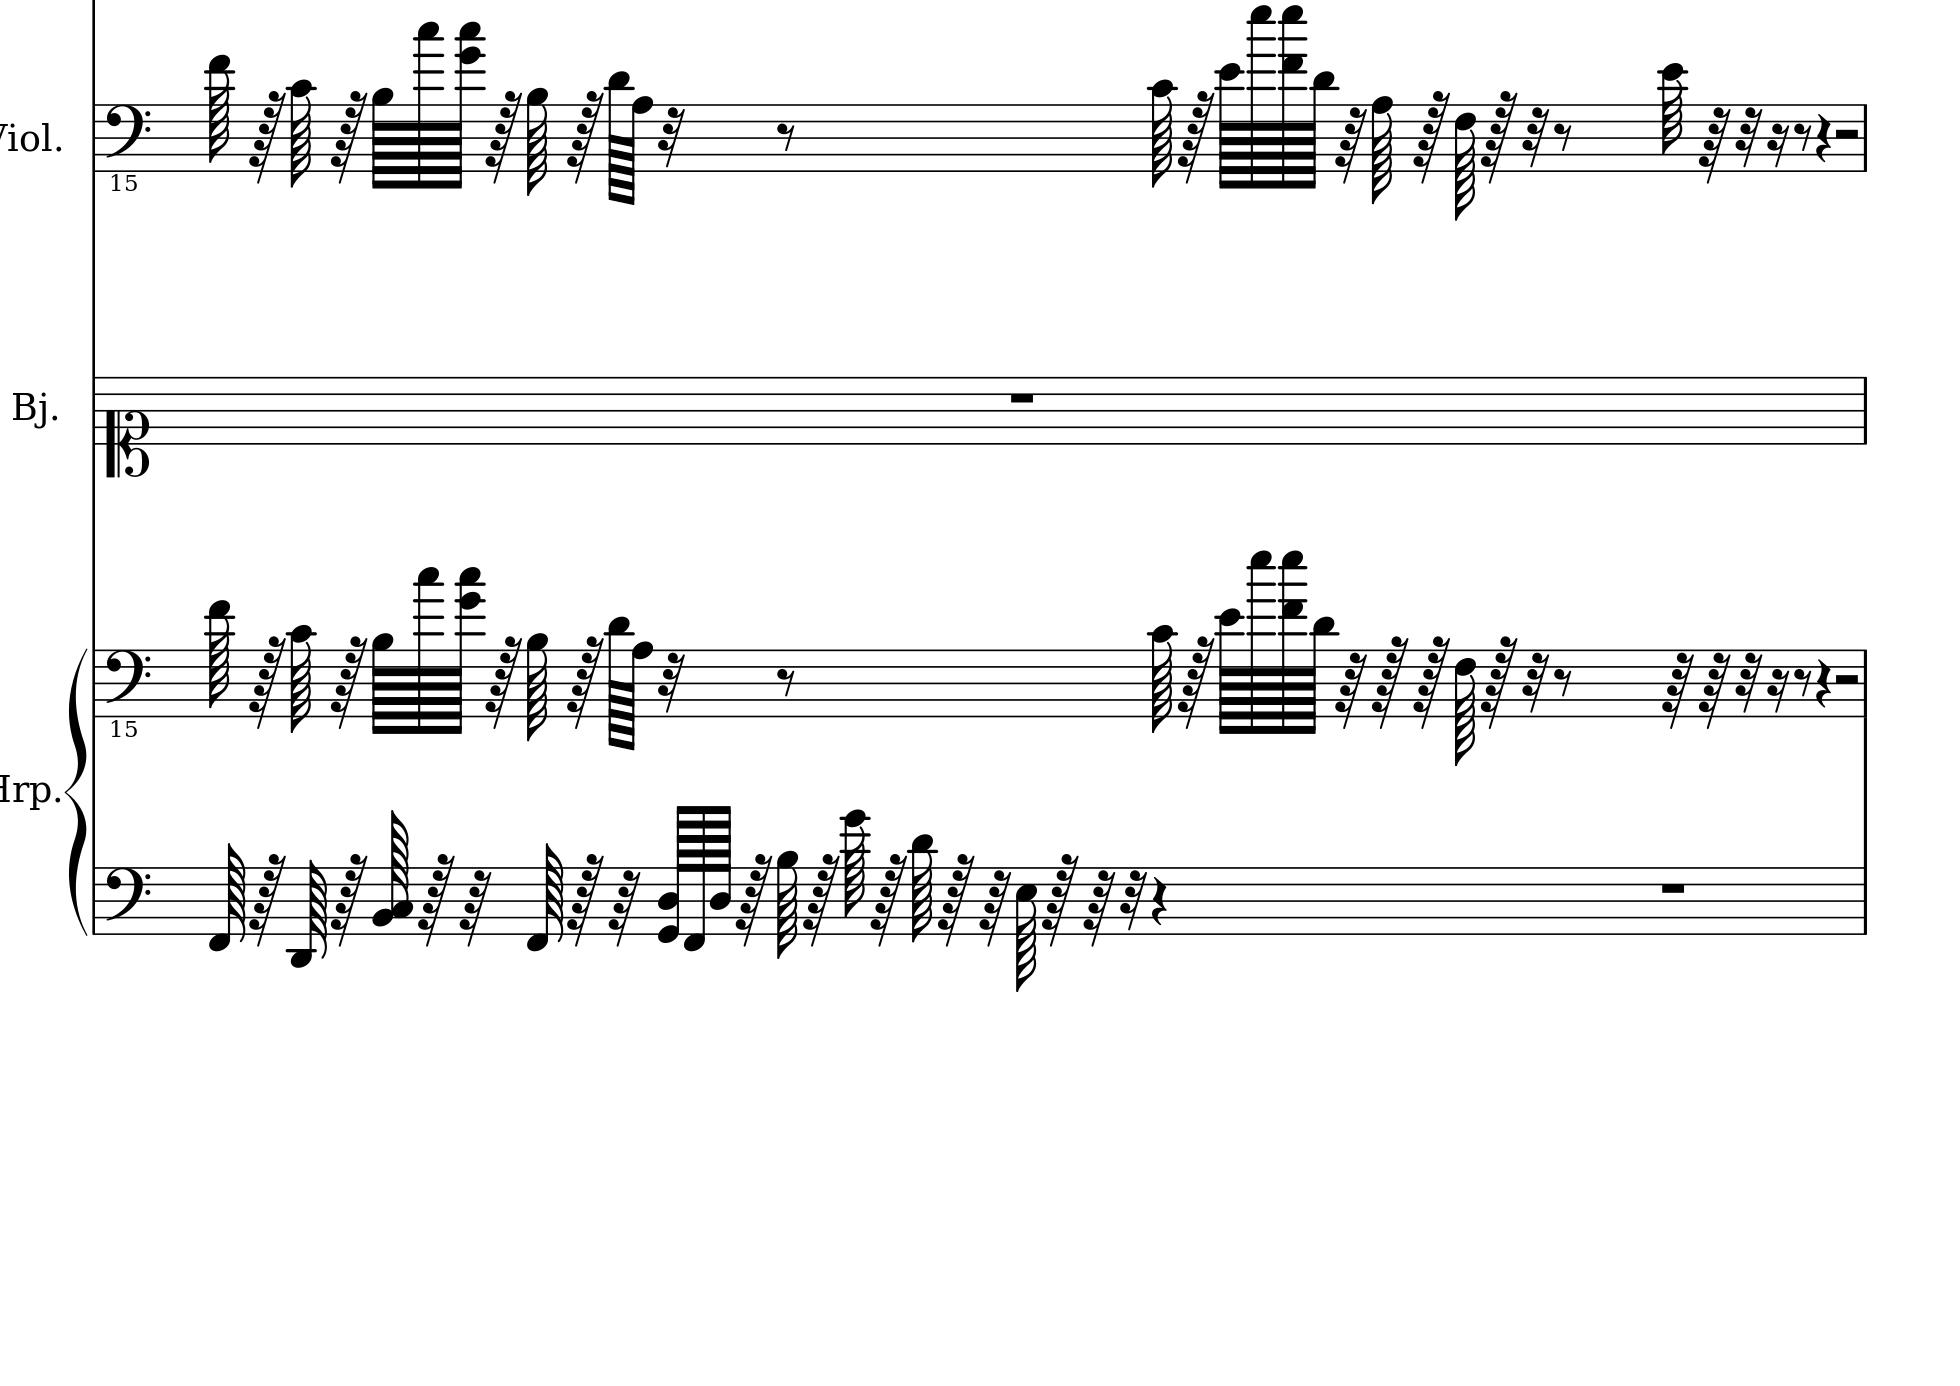128_-1: (523, 841, 565, 952), (207, 841, 247, 952)
128_-3: (286, 858, 331, 967)
128_10: (285, 625, 318, 733), (1147, 79, 1177, 187), (1149, 624, 1176, 736)
128_11: (1308, 615, 1338, 733), (1308, 67, 1336, 190), (604, 70, 630, 201), (604, 616, 630, 747), (286, 79, 316, 187), (909, 831, 937, 943)
128_12: (1215, 607, 1245, 736), (1218, 63, 1245, 190)
128_13: (202, 598, 235, 718), (204, 52, 232, 172)
128_14: (838, 808, 870, 936)
128_17: (412, 565, 442, 736), (412, 21, 442, 190)
128_4: (709, 805, 732, 936)
128_5: (1015, 865, 1038, 991)
128_6: (1452, 100, 1479, 220), (1453, 649, 1476, 768)
128_8: (625, 640, 654, 751), (625, 96, 654, 205), (1371, 93, 1395, 205)
128_9: (525, 85, 549, 195), (775, 850, 799, 957), (370, 85, 394, 190), (370, 631, 394, 733), (525, 633, 547, 739)
64_12: (1659, 61, 1689, 172)
Brace: (63, 645, 88, 934)
DLower_Fclef: (102, 646, 156, 748), (102, 100, 156, 195)
Fclef: (102, 865, 151, 937)
Rests1: (1006, 388, 1038, 406), (1657, 879, 1689, 897)
Rests128: (1411, 88, 1452, 184), (246, 634, 285, 733), (328, 87, 367, 184), (1480, 87, 1519, 184), (1413, 633, 1452, 730), (1479, 633, 1518, 730), (247, 850, 286, 948), (328, 850, 367, 948), (417, 850, 456, 948), (1041, 850, 1080, 948), (247, 88, 286, 184), (565, 88, 604, 184), (328, 633, 367, 729), (1371, 634, 1410, 730), (484, 87, 522, 184), (565, 633, 603, 729), (567, 850, 604, 946), (735, 850, 772, 946), (870, 850, 907, 946), (937, 852, 975, 946), (484, 633, 520, 730), (802, 849, 838, 946), (1177, 633, 1213, 729), (1177, 88, 1213, 183), (684, 804, 706, 952)
Rests16: (1521, 651, 1549, 715), (1767, 120, 1789, 169), (1767, 667, 1789, 714)
Rests2: (1834, 124, 1860, 141), (1834, 670, 1860, 687)
Rests32: (1734, 105, 1764, 169), (657, 105, 685, 171), (1521, 105, 1549, 171), (1735, 649, 1764, 715), (1119, 868, 1147, 933), (657, 652, 685, 715)
Rests4: (1149, 874, 1170, 928), (1815, 111, 1833, 163), (1815, 657, 1831, 708)
Rests64: (457, 868, 492, 949), (607, 868, 642, 948), (1083, 867, 1116, 949), (1698, 105, 1731, 186), (1662, 649, 1695, 730), (1698, 649, 1731, 730), (978, 868, 1011, 949), (1335, 105, 1368, 184), (1335, 651, 1368, 730)
Rests8: (775, 120, 796, 151), (775, 666, 796, 697), (1554, 121, 1573, 153), (1554, 666, 1573, 697), (1794, 120, 1812, 151), (1794, 666, 1812, 696)
Single_barline: (1857, 649, 1875, 715), (1857, 103, 1873, 171), (85, 376, 102, 444), (1857, 867, 1873, 934), (1857, 376, 1873, 442), (88, 648, 102, 715), (87, 105, 100, 171), (88, 867, 102, 933)
Soprano_Cclef: (103, 373, 151, 478)
